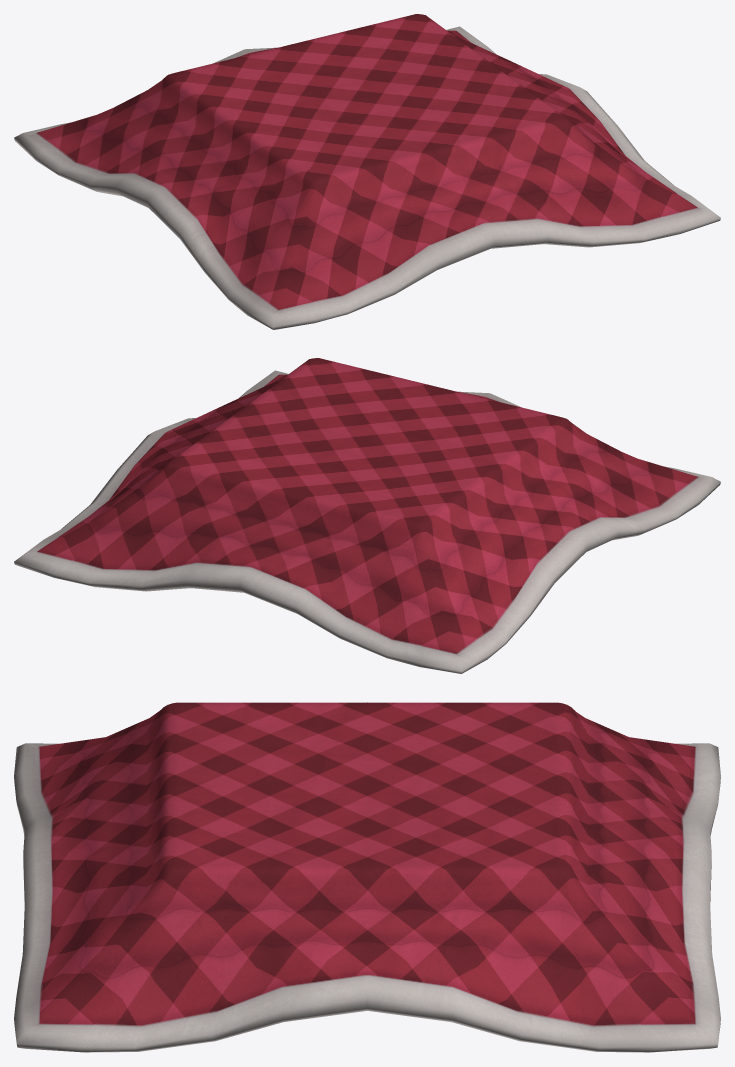
The model's file is kotatsu_kakebuton.fbx.
3 renders of one model, top to bottom at view 1: azimuth 30°, elevation 25°; view 2: azimuth 150°, elevation 25°; view 3: azimuth 270°, elevation 25°, orthographic. The views are drawn at different scales.
Parts seen in each view (by area): view 1: kotatsu_kakebuton; view 2: kotatsu_kakebuton; view 3: kotatsu_kakebuton.
Boxes of the visible parts, left/top/right/bottom form: kotatsu_kakebuton: left=14, top=14, right=720, bottom=329; kotatsu_kakebuton: left=14, top=358, right=720, bottom=673; kotatsu_kakebuton: left=14, top=702, right=720, bottom=1052.
Bounding box in the file's own units: 173 × 32.81 × 173.
